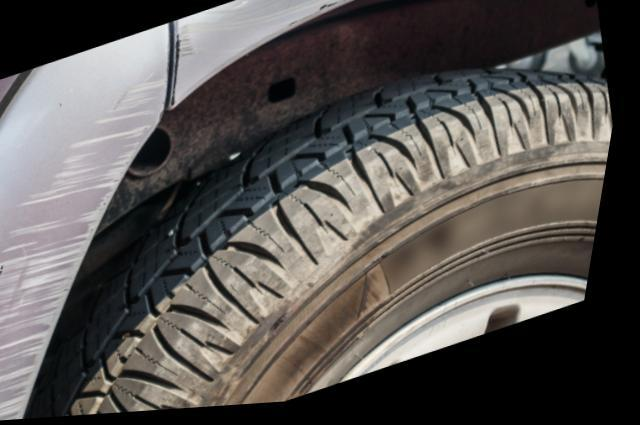scratch: (0, 63, 170, 422), (173, 0, 364, 108)
